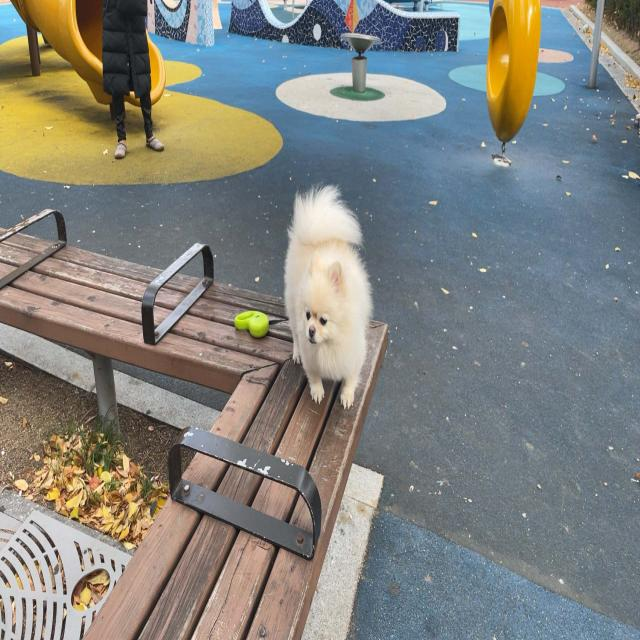Dog: (286, 187, 372, 408)
